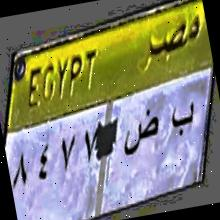4: (33, 144, 55, 188)
7: (55, 128, 82, 178), (78, 118, 104, 164)
8: (6, 152, 31, 196)
baa: (165, 90, 200, 142)
daad: (116, 102, 164, 160)
